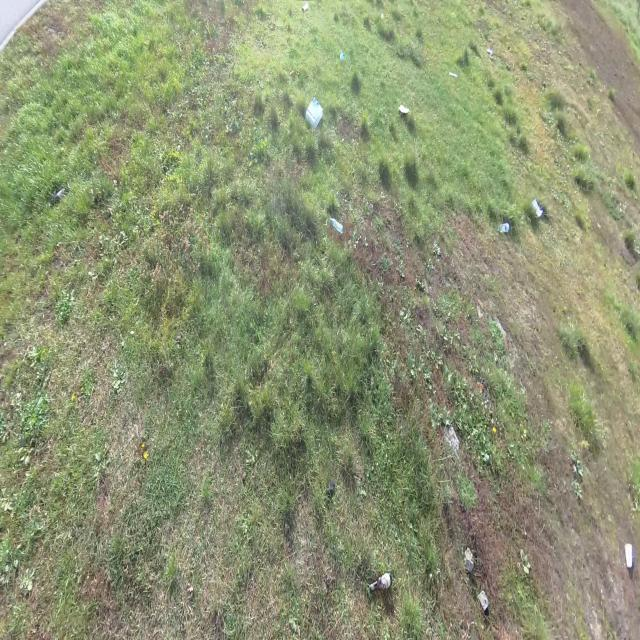rubbish: (305, 97, 324, 130), (367, 570, 393, 592), (48, 183, 70, 208), (477, 588, 490, 613), (530, 198, 543, 218), (329, 218, 343, 236), (464, 548, 474, 573), (397, 102, 410, 116), (625, 543, 632, 568), (496, 223, 510, 233), (302, 2, 309, 13), (484, 48, 494, 55), (339, 51, 345, 61), (449, 72, 457, 79), (380, 14, 383, 20)
